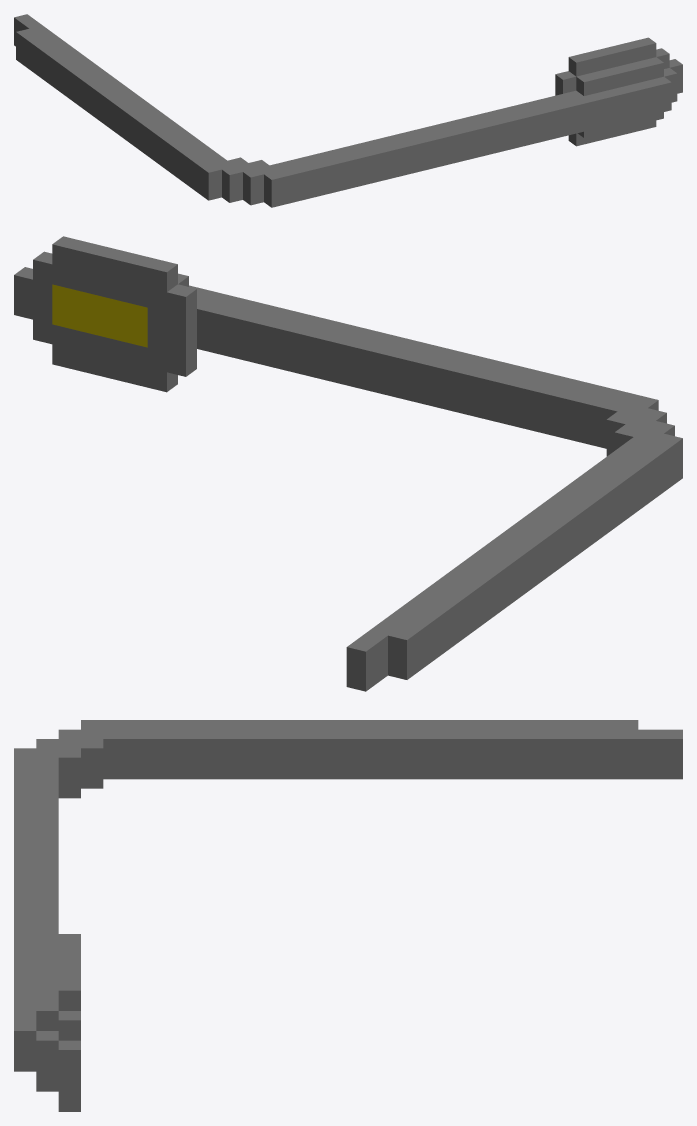
The model's file is light2_2.obj.
3 renders of one model, top to bottom at view 1: azimuth 30°, elevation 25°; view 2: azimuth 150°, elevation 25°; view 3: azimuth 270°, elevation 25°, orthographic. The views are drawn at different scales.
Bounding box in the file's own units: 3.5 × 0.6 × 3.
Materials: 1 (1 with a texture image).
